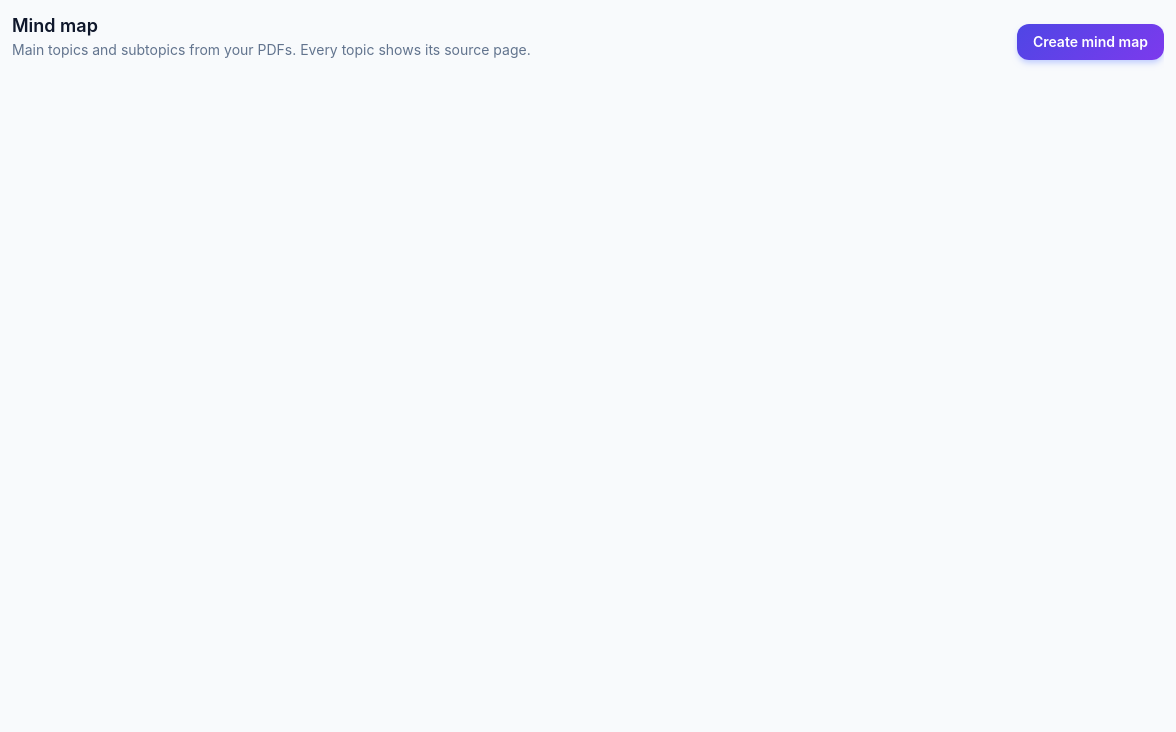
MindMapPanel (kept for the code, not shown in the simplified menu) › shows the centre, branches with sources, and collapses a branch
The image size is (1176, 732).
Click the button "Create mind map": (1090, 42) [1017,24,1164,60]
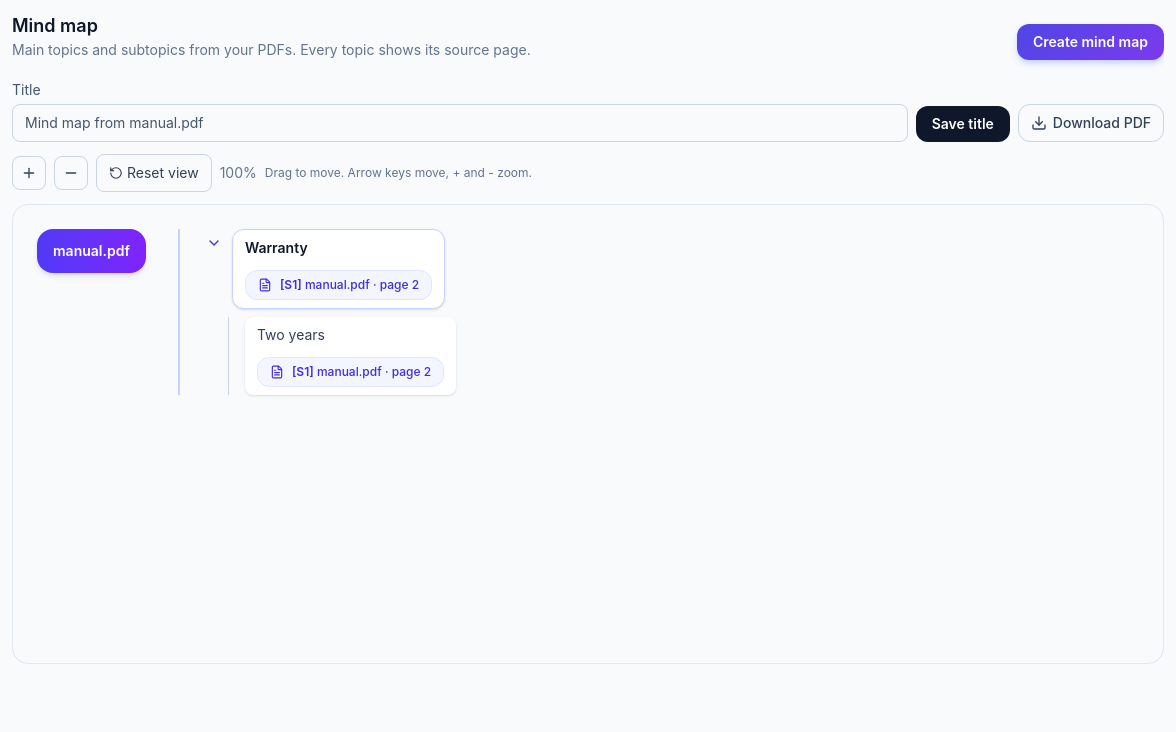
Expected: the list item "Two years" is shown, [257,326,325,343]
Click the button named "Collapse Warranty": (214, 243) [204,233,224,253]
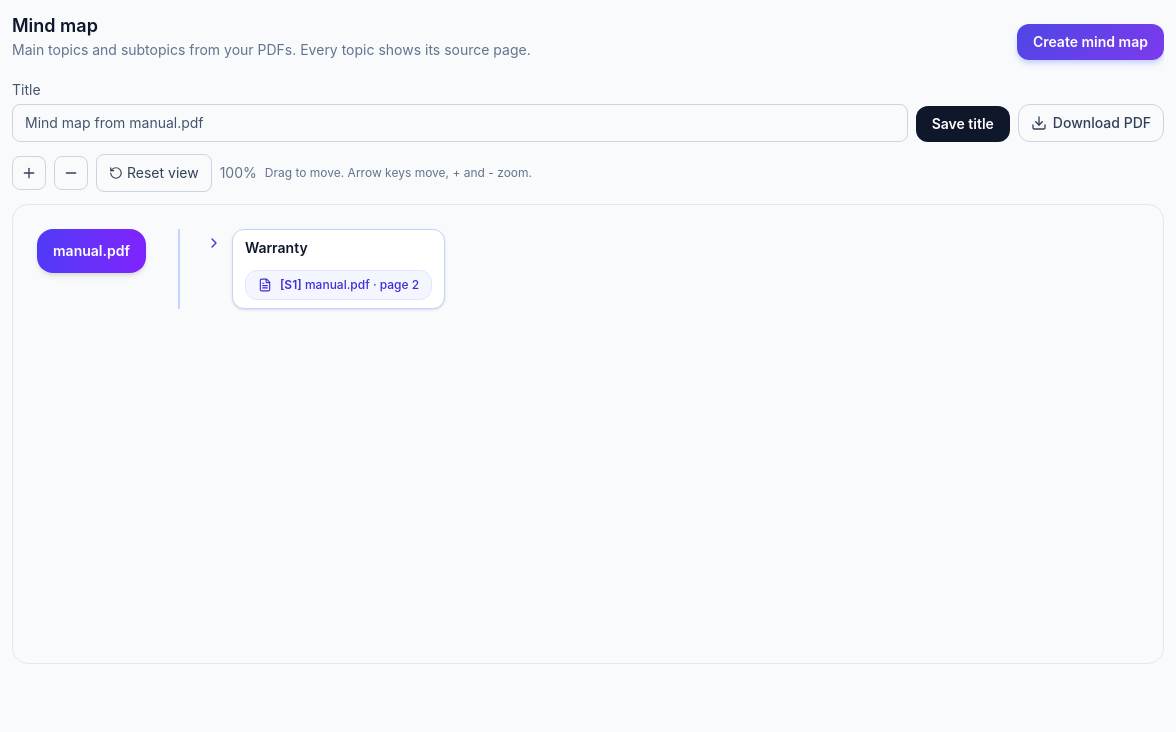
Expected: the list item "Two years" is gone
Expected: the button named "Expand Warranty" is collapsed, [204,233,224,253]
